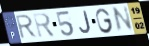5: (55, 10, 76, 38)
G: (94, 7, 114, 35)
J: (78, 10, 92, 35)
N: (111, 5, 135, 34)
R: (32, 11, 57, 39), (15, 13, 39, 40)
